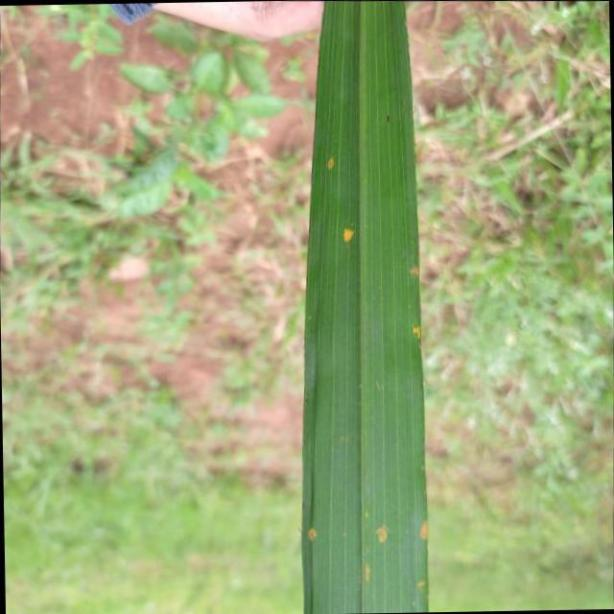Kalium: (301, 0, 425, 614)
